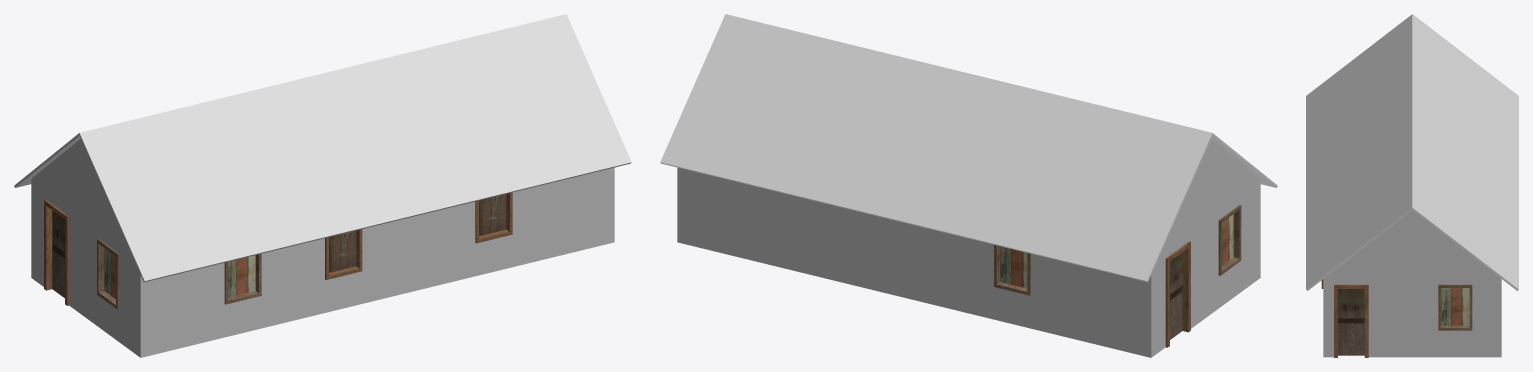
File: 11_casa.fbx
3 renders of one model, left to right at view 1: azimuth 30°, elevation 25°; view 2: azimuth 150°, elevation 25°; view 3: azimuth 270°, elevation 25°, orthographic. The views are drawn at different scales.
Visible parts, largest first — view 1: telhado, 11_casa_LOD0; view 2: telhado, 11_casa_LOD0; view 3: telhado, 11_casa_LOD0.
Part boxes in pixels (x1,y1,x2,y2): telhado: (14, 14, 631, 282); 11_casa_LOD0: (31, 139, 614, 357); telhado: (660, 14, 1277, 282); 11_casa_LOD0: (677, 139, 1260, 357); telhado: (1306, 14, 1518, 290); 11_casa_LOD0: (1321, 210, 1501, 357).
Size of what is drawn, in the model's own units: 1028 by 376 by 477.
